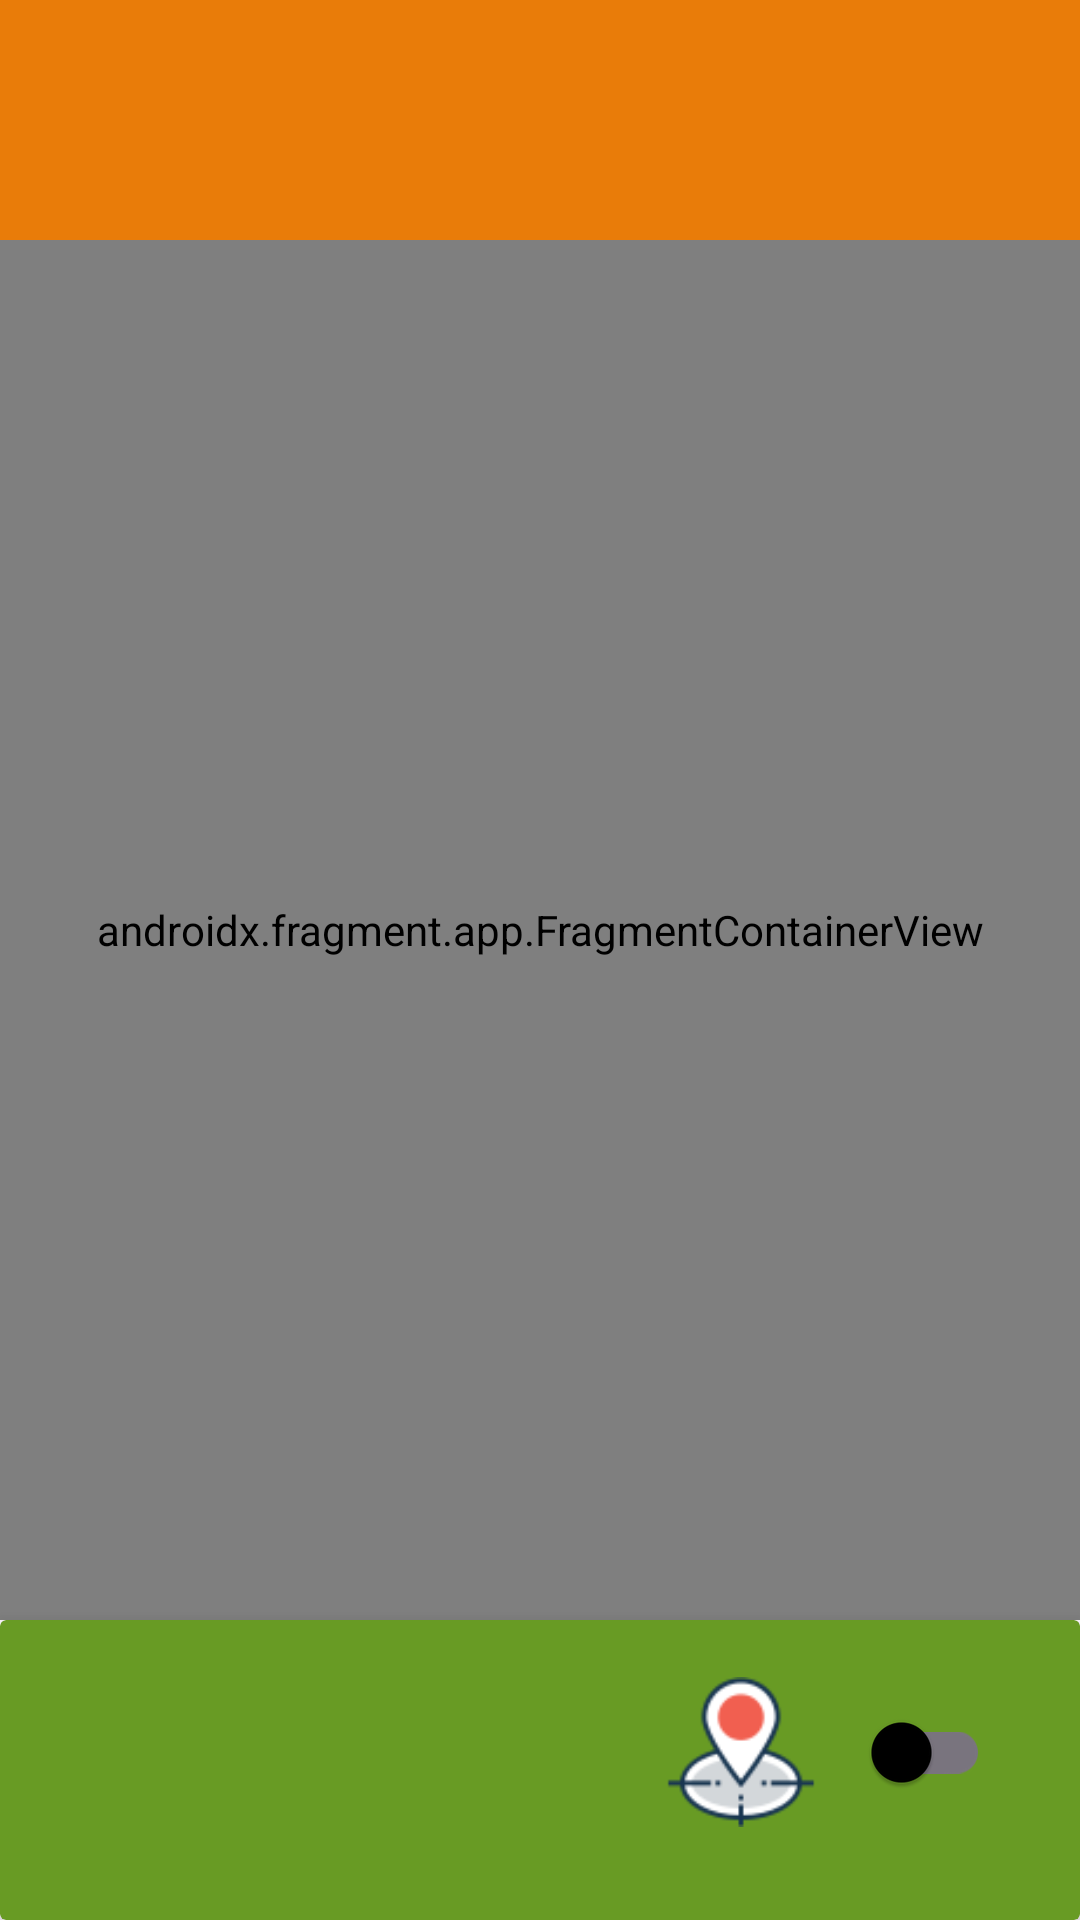

Point at icon controls on the screen. Image size 1080×1920, points as (x,y).
location: (741,1752)
